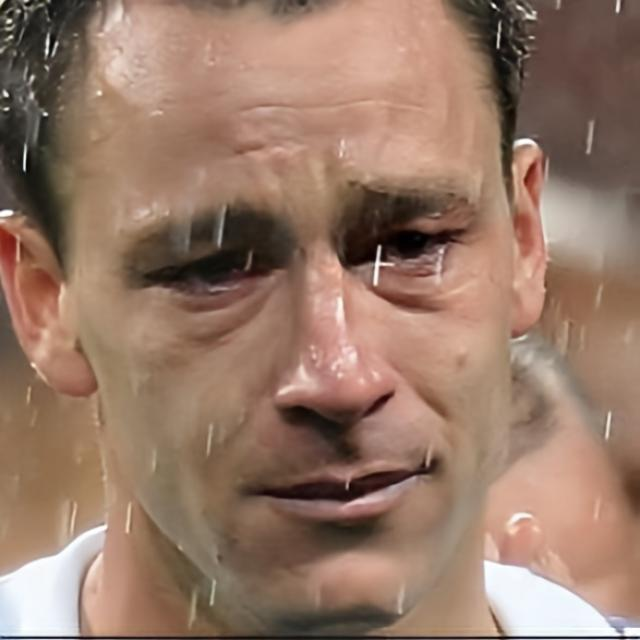sad: (50, 0, 512, 636)
